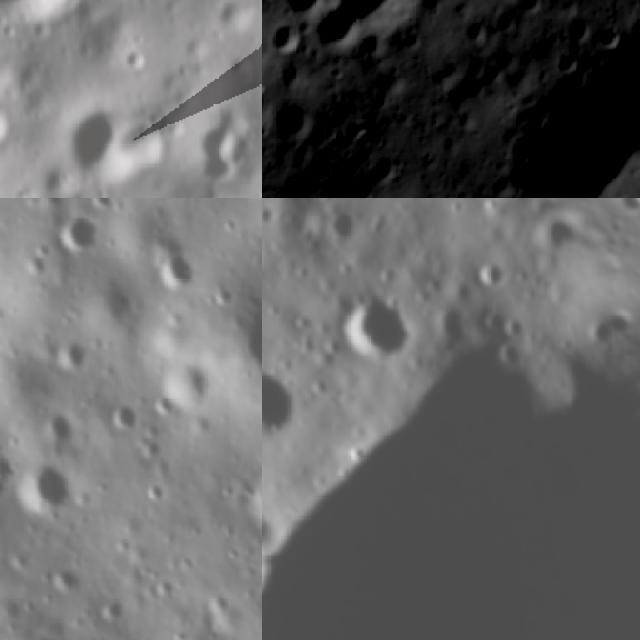crater: (262, 289, 640, 640), (56, 102, 166, 191), (334, 282, 426, 374), (262, 349, 318, 460), (194, 99, 262, 185), (319, 0, 442, 41), (262, 85, 326, 160), (300, 0, 367, 62), (0, 0, 91, 35), (16, 458, 72, 513), (344, 20, 394, 71), (262, 12, 310, 63), (555, 6, 601, 54), (361, 148, 406, 197), (156, 366, 203, 412), (503, 127, 545, 175), (52, 212, 94, 260), (451, 9, 496, 53), (580, 310, 620, 356), (472, 254, 514, 297), (543, 41, 585, 81), (216, 0, 262, 32), (273, 0, 339, 22), (298, 180, 376, 198), (158, 254, 198, 289), (42, 414, 82, 446), (592, 22, 626, 58), (107, 390, 135, 432), (482, 168, 521, 198), (64, 341, 92, 374), (250, 466, 262, 524), (483, 0, 531, 10)
